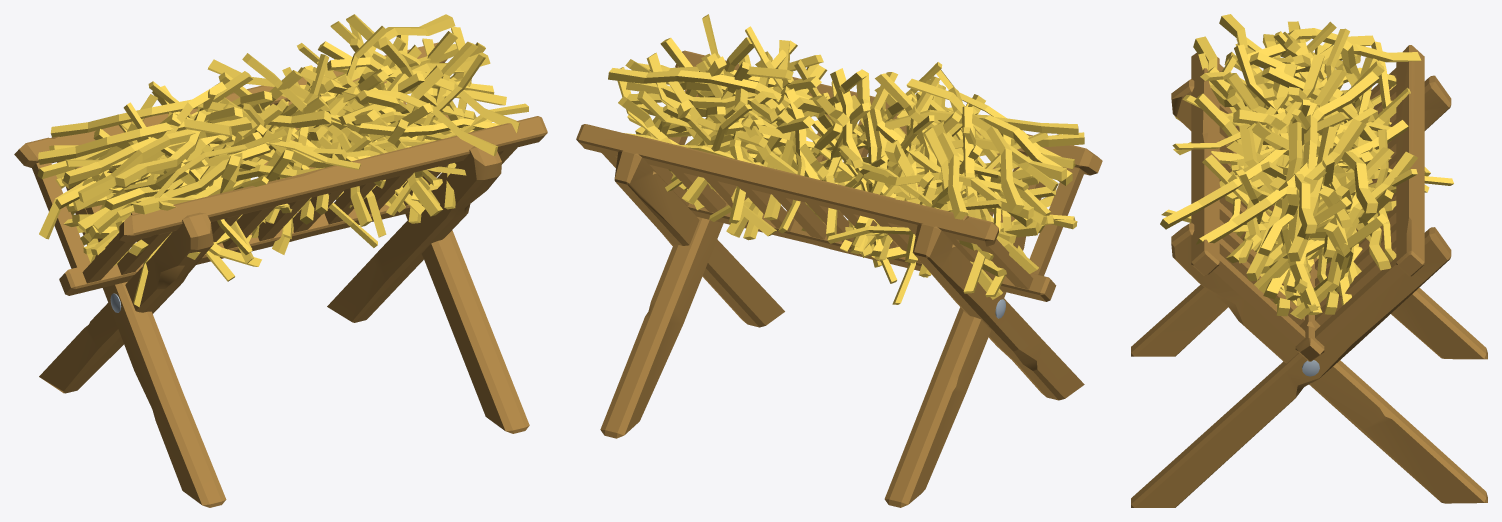
The model's file is manger.glb.
The picture shows the model from 3 angles, left to right: view 1: azimuth 30°, elevation 25°; view 2: azimuth 150°, elevation 25°; view 3: azimuth 270°, elevation 25°; orthographic projection. The views are drawn at different scales.
Visible parts, largest first — view 1: foodspot; view 2: foodspot; view 3: foodspot.
Boxes of the visible parts, bbox=[...] form: foodspot: bbox=[14, 14, 547, 507]; foodspot: bbox=[576, 14, 1102, 507]; foodspot: bbox=[1131, 14, 1487, 507].
Size of the model in its own units: 5.32 by 4.15 by 3.64.
